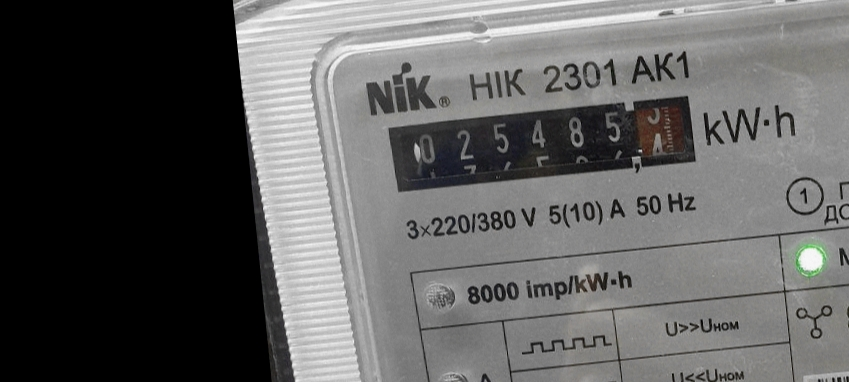0: (414, 129, 438, 166)
2: (453, 125, 476, 162)
4: (525, 115, 549, 151), (646, 129, 668, 158)
5: (600, 107, 624, 146), (488, 119, 512, 155)
8: (564, 111, 588, 151)
screen: (377, 86, 705, 204)
